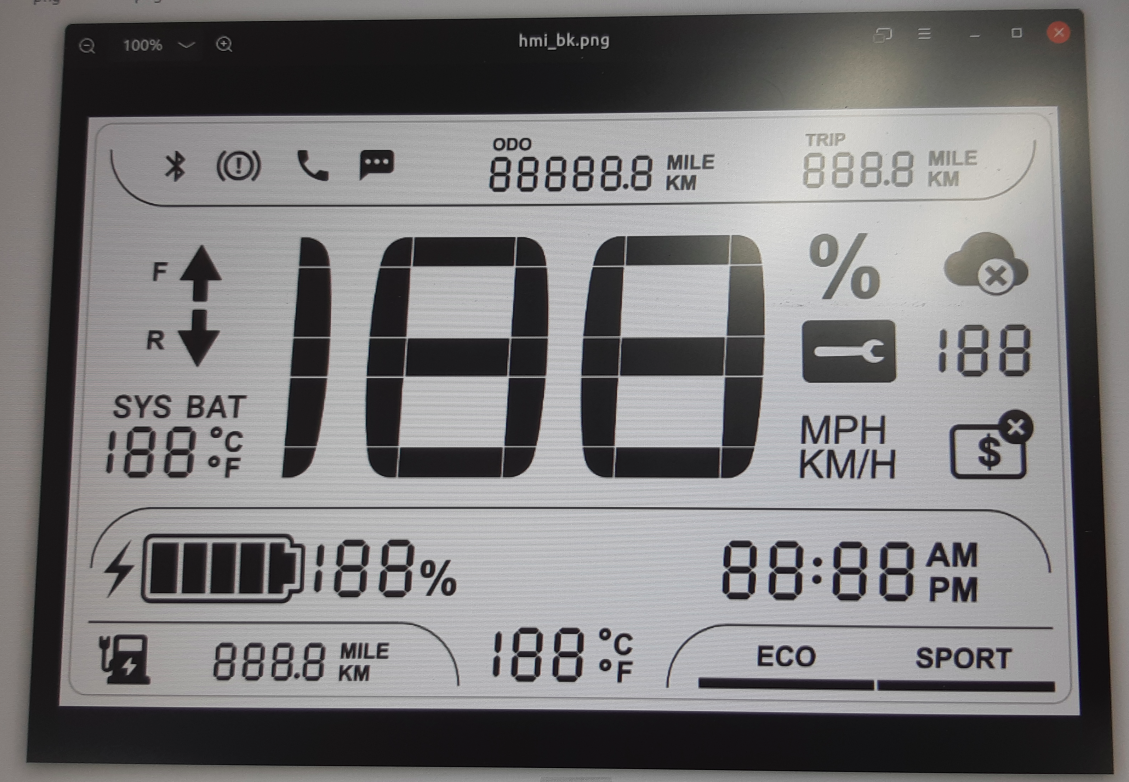bluetooth_on: (159, 147, 191, 186)
braking_on: (212, 146, 264, 185)
calling_on: (292, 145, 335, 185)
connection_lost: (940, 227, 1032, 301)
error_code: (797, 316, 902, 387)
low_battery: (93, 629, 157, 688)
sms_on: (354, 146, 400, 186)
vin_id: (947, 406, 1037, 483)
